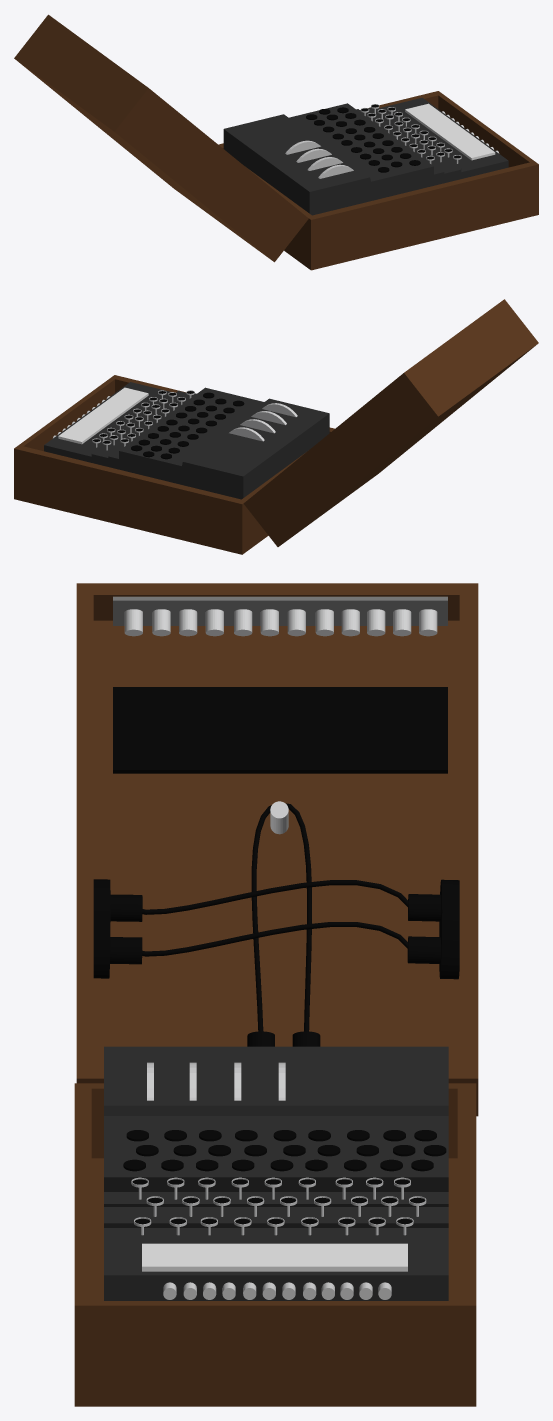
Rendered from EnigmaProMax.fbx.
The picture shows the model from 3 angles, top to bottom: view 1: azimuth 30°, elevation 25°; view 2: azimuth 150°, elevation 25°; view 3: azimuth 270°, elevation 25°; orthographic projection. The views are drawn at different scales.
Visible parts, largest first — view 1: Upper_wood_box, Machine_itself, Lower_wood_box, ENIGMAPROMAX LABEL; view 2: Upper_wood_box, Machine_itself, Lower_wood_box, ENIGMAPROMAX LABEL; view 3: Upper_wood_box, Machine_itself, Lower_wood_box, BlackWoodUpperBox, ENIGMAPROMAX LABEL, WoodUpperBox, Cylinder.002, Cylinder.003, BézierCurve.002, BézierCurve.001, UpperCable, UpperCable.001.
Part boxes in pixels (<box>): Upper_wood_box: <box>14,14,308,262</box>; Machine_itself: <box>223,97,508,215</box>; Lower_wood_box: <box>218,91,538,270</box>; ENIGMAPROMAX LABEL: <box>405,103,495,160</box>; Upper_wood_box: <box>243,299,538,546</box>; Machine_itself: <box>44,382,329,499</box>; Lower_wood_box: <box>14,375,334,554</box>; ENIGMAPROMAX LABEL: <box>58,387,148,444</box>; Upper_wood_box: <box>76,583,478,1116</box>; Machine_itself: <box>104,1046,448,1300</box>; Lower_wood_box: <box>74,1083,476,1406</box>; BlackWoodUpperBox: <box>113,687,447,773</box>; ENIGMAPROMAX LABEL: <box>142,1243,407,1271</box>; WoodUpperBox: <box>113,596,447,625</box>; Cylinder.002: <box>407,879,459,979</box>; Cylinder.003: <box>93,879,142,978</box>; BézierCurve.002: <box>142,880,408,914</box>; BézierCurve.001: <box>142,922,408,956</box>; UpperCable: <box>286,803,311,1031</box>; UpperCable.001: <box>251,805,271,1031</box>.
Size of the model in its own units: 1114 by 556 by 459.
